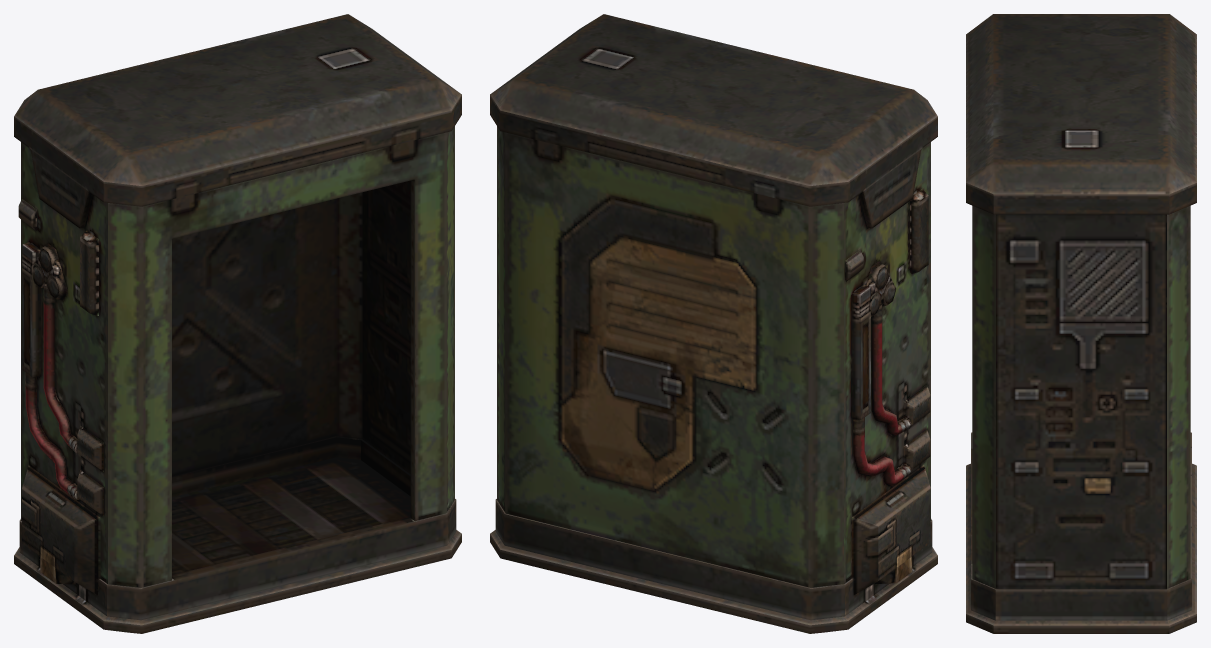
File: computer_case.DAE
3 renders of one model, left to right at view 1: azimuth 30°, elevation 25°; view 2: azimuth 150°, elevation 25°; view 3: azimuth 270°, elevation 25°, orthographic.
Visible parts, largest first — view 1: computer_case; view 2: computer_case; view 3: computer_case.
Part boxes in pixels (x1,y1,x2,y2): computer_case: [14, 14, 461, 633]; computer_case: [490, 14, 937, 633]; computer_case: [966, 14, 1196, 633].
Bounding box in the file's own units: 0.7402 × 0.408 × 0.9138.
